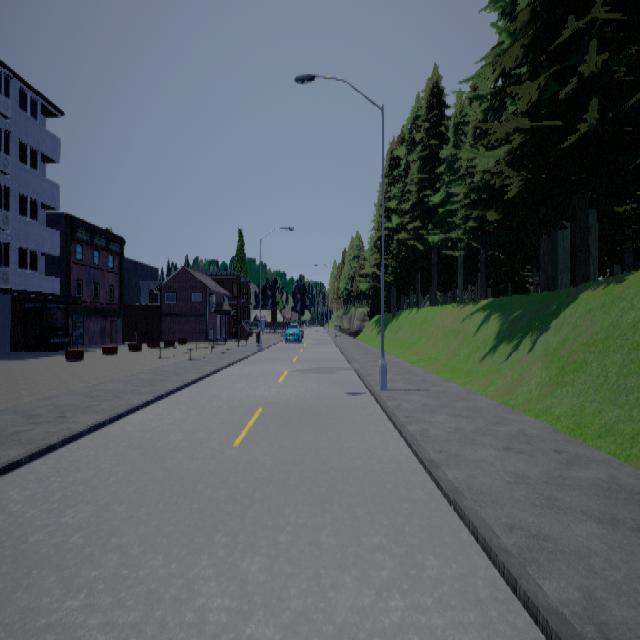vehicle: (283, 320, 301, 340)
